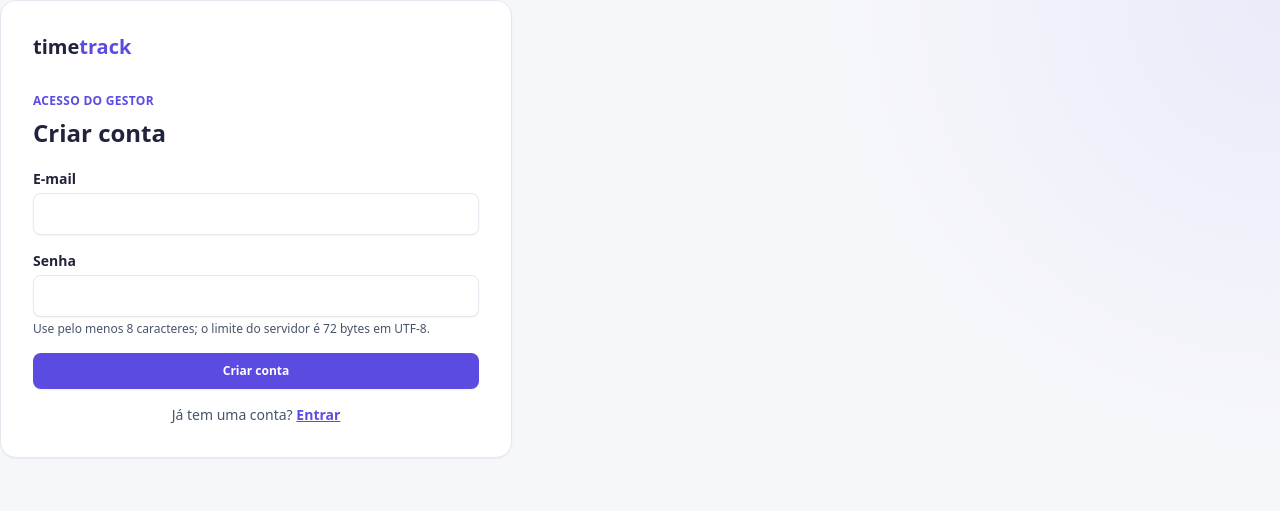
Test: AuthPage › shows a generic duplicate-account error without exposing server details
Type "gestor@empresa.com" into the field labelled "E-mail" at {"x": 256, "y": 214}, box [33,193,479,235]
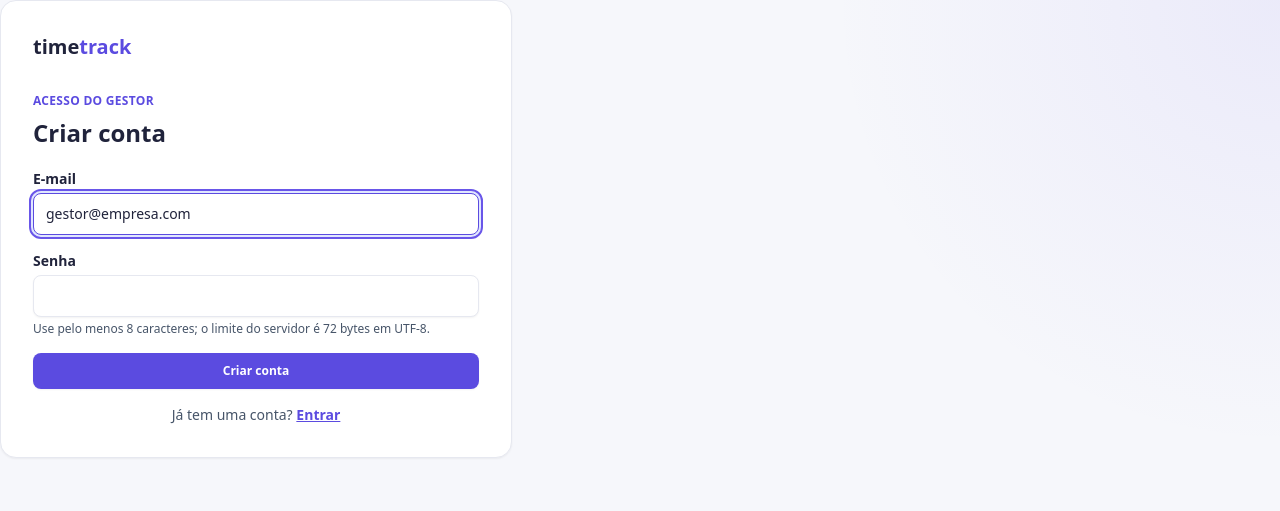
Type "SenhaSegura123!" into the password field labelled "Senha" at {"x": 256, "y": 296}, box [33,275,479,317]
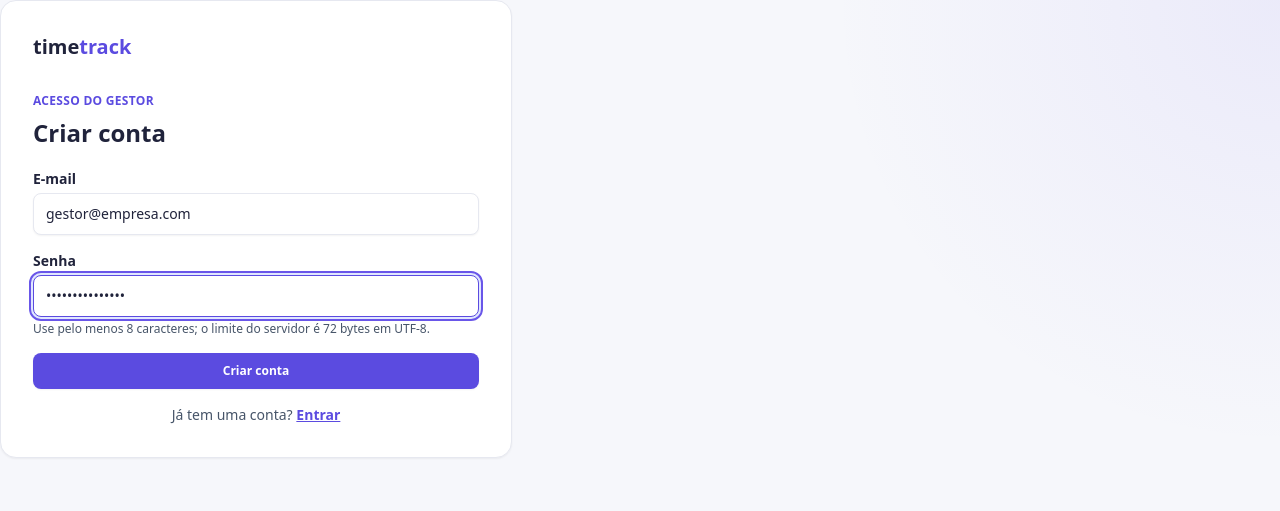
Click the button "Criar conta" at {"x": 256, "y": 371}, box [33,353,479,389]
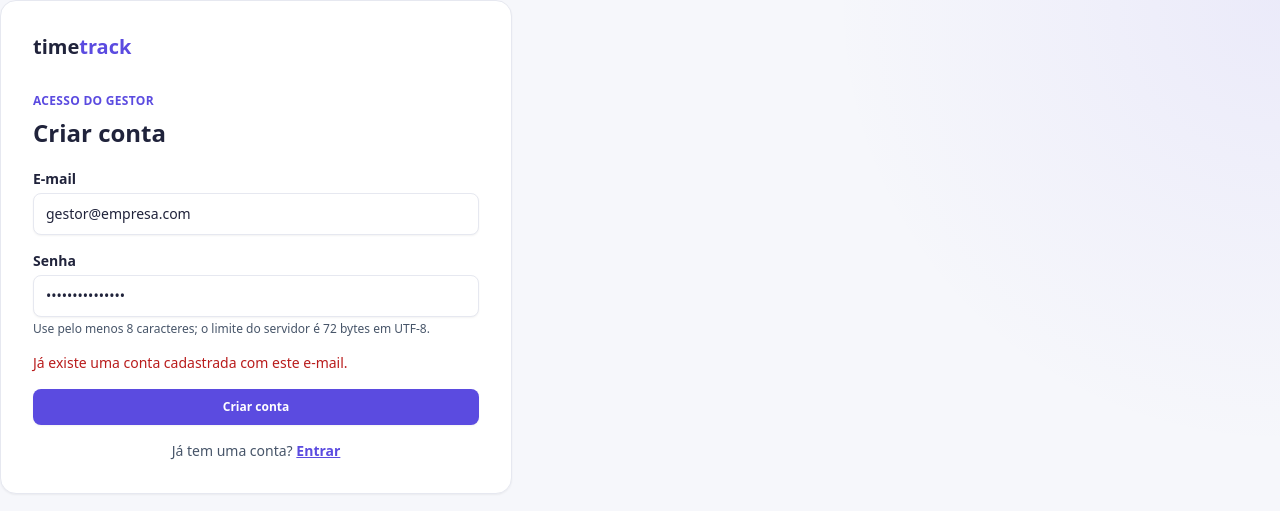
Expected: the message does not show "secret detail", [33,353,348,372]
Now the message shows "Já existe uma conta", box [33,353,348,372]
